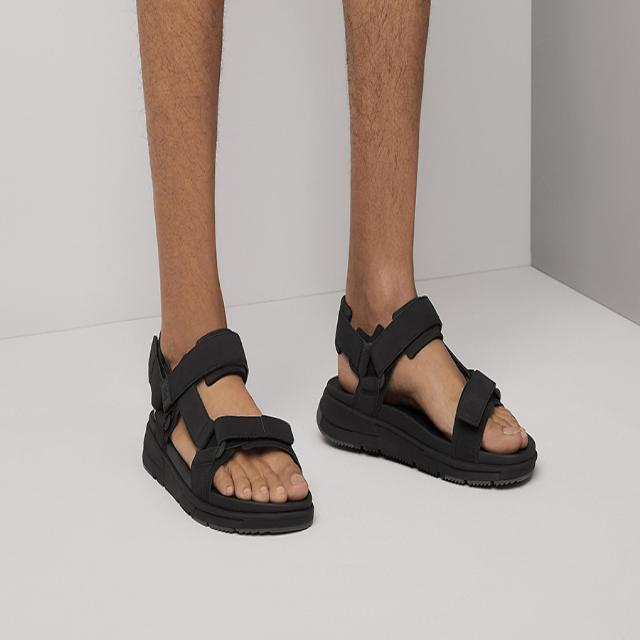Sandals: (93, 252, 578, 596)
